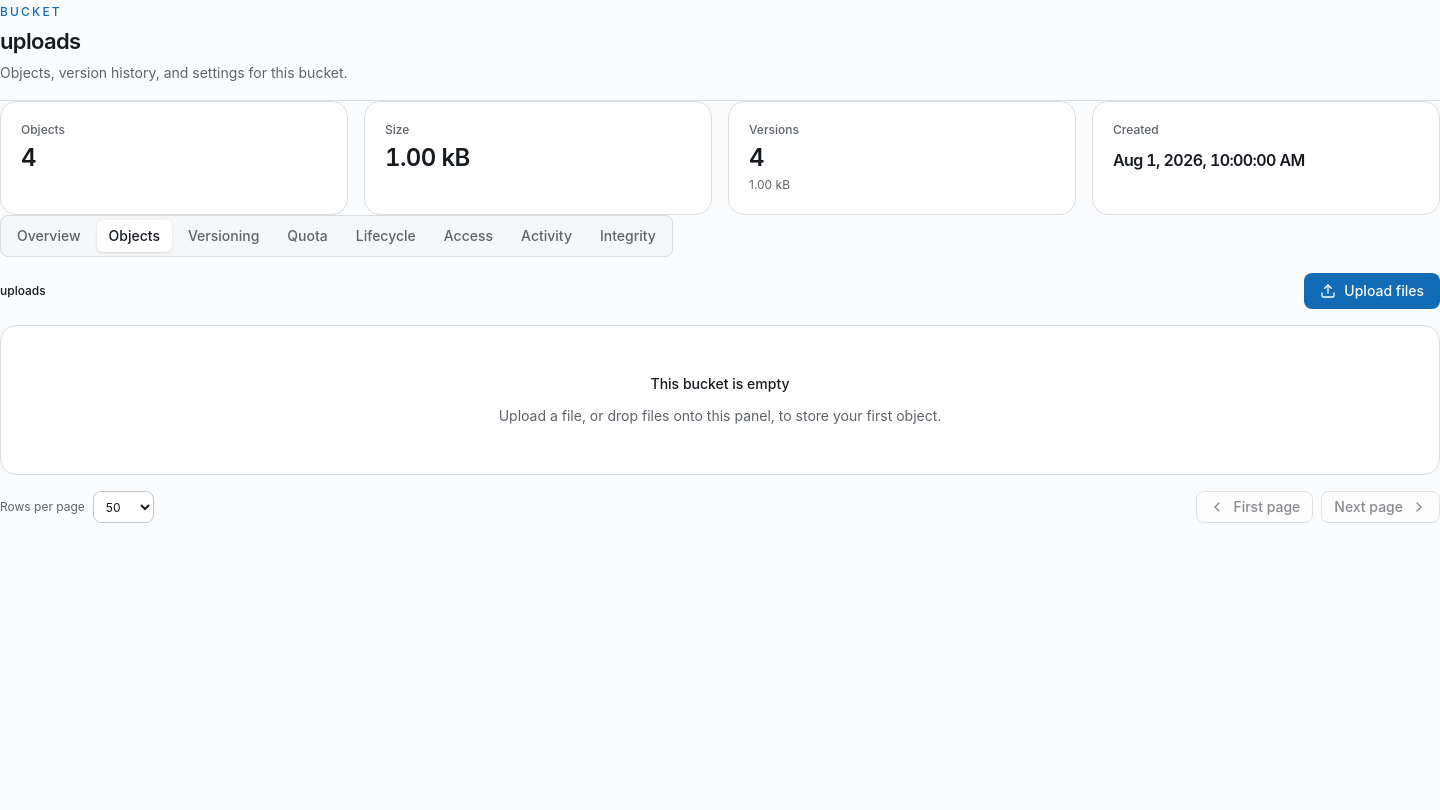
bucket lifecycle rules › refuses to save a rule with no expiry at all
This screenshot has width=1440, height=810.
Click the tab "Lifecycle" at (386, 236), box [344, 220, 428, 252]
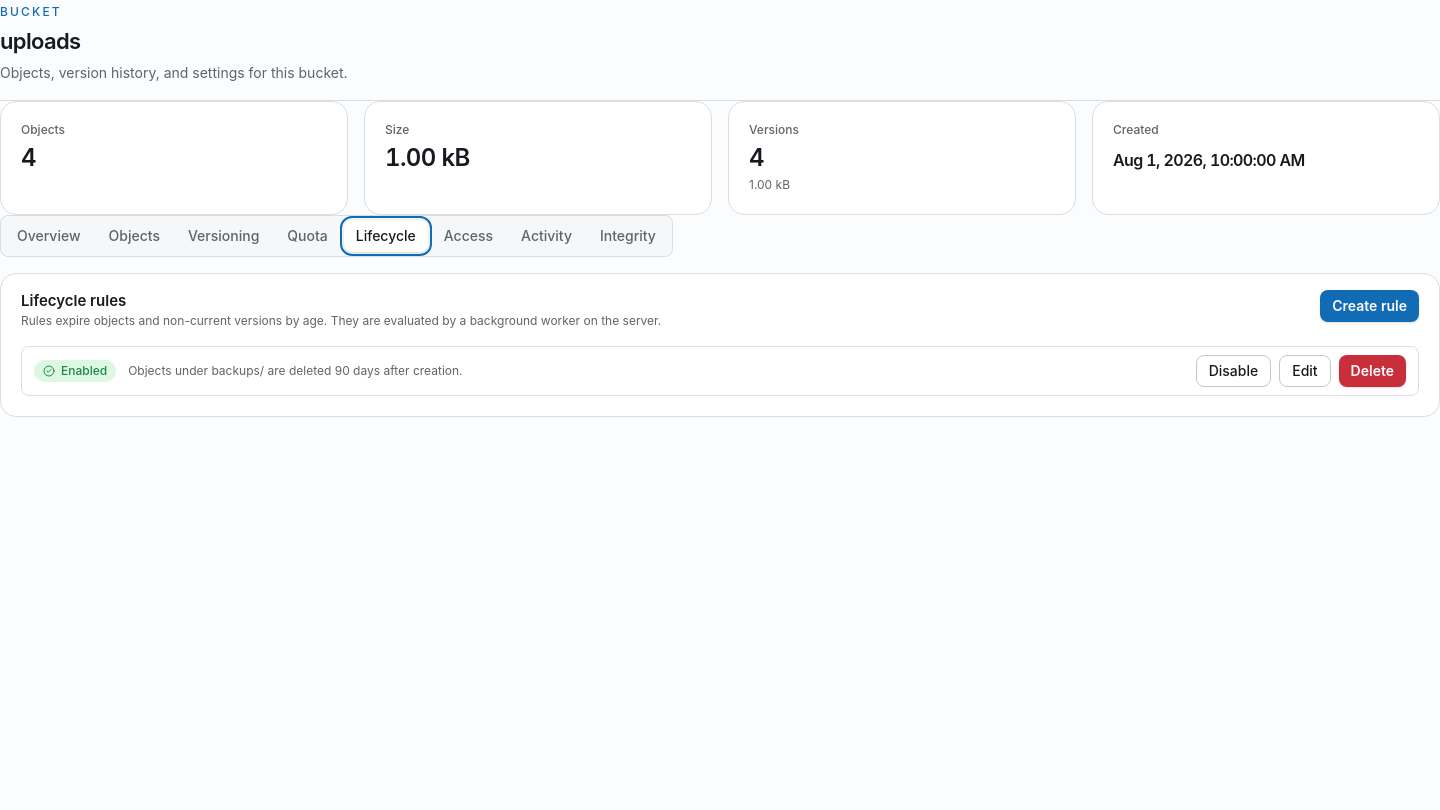
Now the text "Objects under backups/ are deleted 90 days after creation." is shown, box [128, 363, 463, 378]
Click the button with aria-label "edit lifecycle rule backups" at (1305, 371), box [1279, 355, 1331, 387]
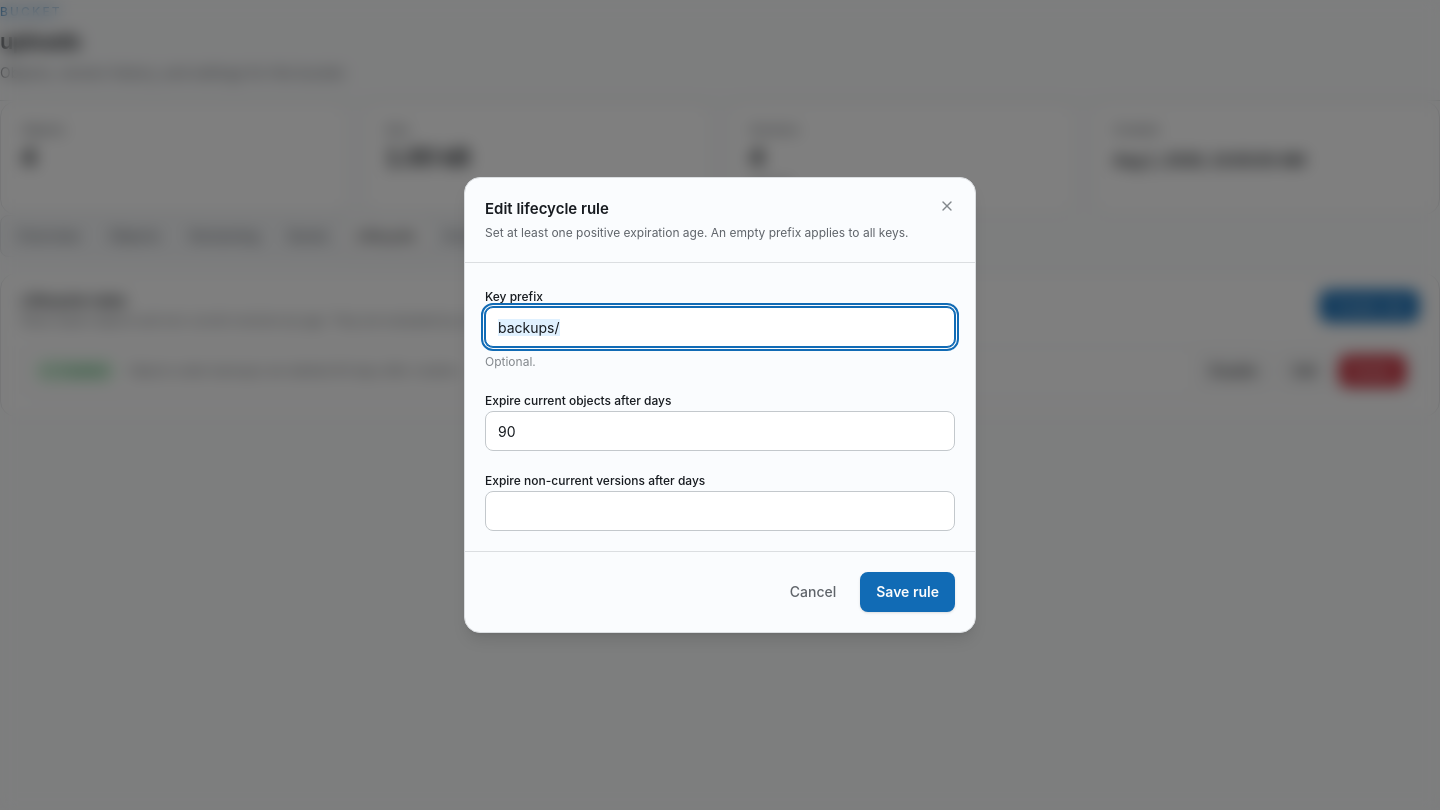
Clear the number field labelled "Expire current objects after days" at (720, 431), box [485, 411, 955, 451]
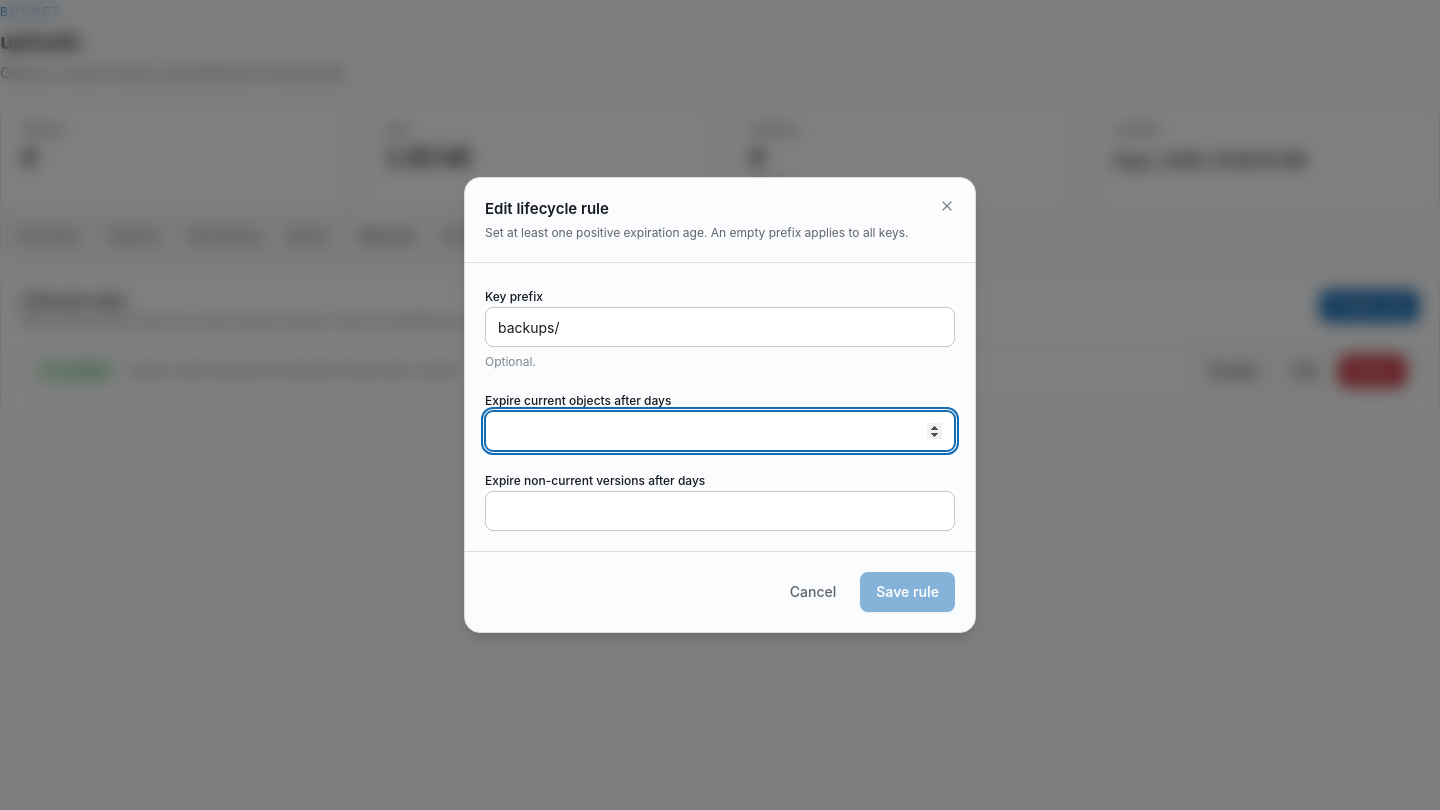
Now the button "Save rule" is disabled, box [860, 572, 955, 612]
